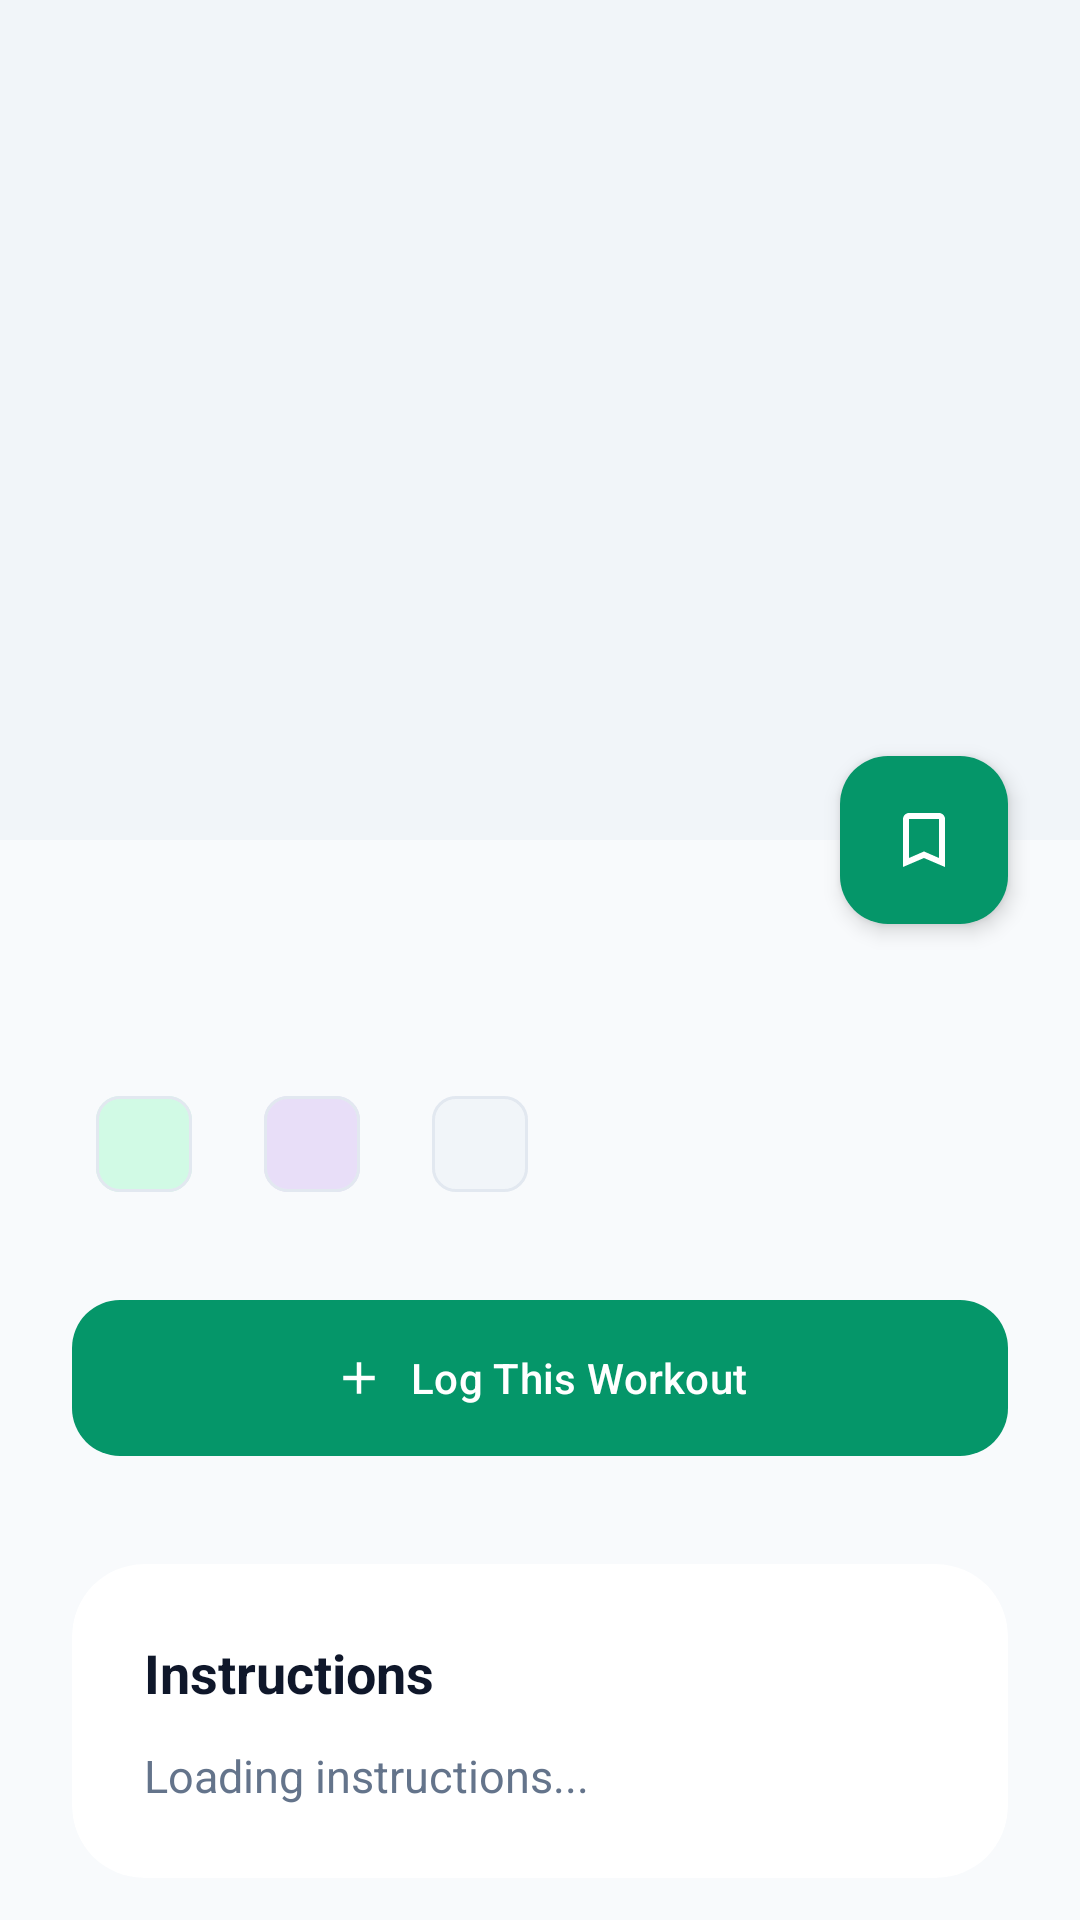

Locate icon controls on the screen. Image size 1080 × 1920, boxes as detection(x1, y1, x2, y2).
Save exercise: detection(840, 756, 1008, 924)
